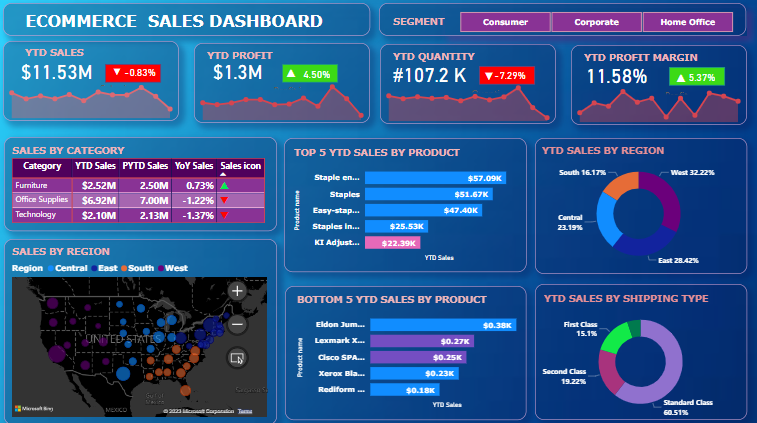

The page's visual inventory and layout, read from the dashboard file:
{"tool":"powerbi","page":{"name":"Page 1","canvas":[1280,720],"ordinal":0},"visuals":[{"type":"textbox","box":[10.2,0,615,55],"z":0},{"type":"textbox","box":[10.2,0,576.6,55.6],"z":1000},{"type":"textbox","box":[10.1,75.5,295.3,134.2],"z":2000},{"type":"card","fields":{"Values":["ecommerce_data.YTD Sales"]},"box":[0,103.9,200.5,43.9],"z":3000},{"type":"areaChart","fields":{"Category":["Calendar.Month"],"Y":["Sum(ecommerce_data.sales_per_order)"]},"box":[10.1,130.9,295.3,78.8],"z":4000},{"type":"shape","box":[181.5,114.1,93.7,30.7],"z":5000},{"type":"card","fields":{"Values":["ecommerce_data.YoY Sales"]},"box":[190.2,114.1,99.5,29.3],"z":6000},{"type":"card","fields":{"Values":["ecommerce_data.Sales icon"]},"box":[165.4,111.2,70.2,42.4],"z":7000},{"type":"textbox","box":[330.4,78.8,295.3,134.2],"z":8000},{"type":"card","fields":{"Values":["ecommerce_data.YTD Profit"]},"box":[304.4,103.9,200.5,43.9],"z":9000},{"type":"areaChart","fields":{"Category":["Calendar.Month"],"Y":["Sum(ecommerce_data.profit_per_order)"]},"box":[330.4,134.1,295.3,78.8],"z":10000},{"type":"shape","box":[478.5,114.1,93.7,30.7],"z":11000},{"type":"card","fields":{"Values":["ecommerce_data.YoY Profit"]},"box":[487.3,115.6,99.5,22],"z":12000},{"type":"card","fields":{"Values":["ecommerce_data.Profit icon"]},"box":[458,112.7,70.2,43.9],"z":13000},{"type":"textbox","box":[42.4,79,158,38],"z":14000},{"type":"textbox","box":[346.8,83.4,158,38],"z":15000},{"type":"textbox","box":[643.3,80,295.3,134.2],"z":16000},{"type":"areaChart","fields":{"Category":["Calendar.Month"],"Y":["Sum(ecommerce_data.order_quantity)"]},"box":[643.3,135.4,295.3,78.8],"z":17000},{"type":"shape","box":[807.8,117.1,93.7,30.7],"z":18000},{"type":"card","fields":{"Values":["ecommerce_data.YoY Quantity"]},"box":[810.7,117.1,99.5,22],"z":19000},{"type":"card","fields":{"Values":["ecommerce_data.Quantity icon"]},"box":[790.2,117.1,70.2,43.9],"z":20000},{"type":"textbox","box":[660,84.9,181.5,38],"z":21000},{"type":"card","fields":{"Values":["ecommerce_data.YTD Concatenated Qty"]},"box":[626.3,108.3,200.5,43.9],"z":22000},{"type":"textbox","box":[963.6,82.7,295.3,134.2],"z":23000},{"type":"areaChart","fields":{"Category":["Calendar.Month"],"Y":["ecommerce_data.Profit Margin"]},"box":[963.6,138,295.3,78.8],"z":24000},{"type":"shape","box":[1128,119.8,93.7,30.7],"z":25000},{"type":"card","fields":{"Values":["ecommerce_data.YoY Profit Margin"]},"box":[1132.7,121.5,99.5,22],"z":26000},{"type":"card","fields":{"Values":["ecommerce_data.Profit Margin icon"]},"box":[1112.2,120,70.2,43.9],"z":27000},{"type":"textbox","box":[980.5,87.8,250.2,38],"z":28000},{"type":"card","fields":{"Values":["ecommerce_data.YTD Profit Margin"]},"box":[939.5,111.2,200.5,43.9],"z":29000},{"type":"textbox","box":[11.7,237.1,458,158],"z":30000},{"type":"pivotTable","title":"SALES BY CATEGORY","fields":{"Rows":["ecommerce_data.category_name"],"Values":["ecommerce_data.YTD Sales","ecommerce_data.PYTD Sales","ecommerce_data.YoY Sales","ecommerce_data.Sales icon"]},"box":[20.5,248.8,507.8,146.3],"z":31000},{"type":"actionButton","box":[0,0,100,40],"z":32000},{"type":"textbox","box":[11.7,408.3,458,311.7],"z":32001},{"type":"map","title":"SALES BY REGION","fields":{"Y":["us_state_long_lat_codes.latitude"],"X":["us_state_long_lat_codes.longitude"],"Size":["ecommerce_data.YTD Sales"],"Series":["ecommerce_data.customer_region"]},"box":[20.5,417.1,449.3,294.1],"z":32002}]}

Visuals, with their boxes in screenshot pixels (x1, y1, x2, y2), scaled from the page's 1280x720 canvas onto the 757x423 screenshot:
textbox: <region>6, 0, 370, 32</region>
textbox: <region>6, 0, 347, 33</region>
textbox: <region>6, 44, 181, 123</region>
card - ecommerce_data.YTD Sales: <region>0, 61, 119, 87</region>
areaChart - Calendar.Month x Sum(ecommerce_data.sales_per_order): <region>6, 77, 181, 123</region>
shape: <region>107, 67, 163, 85</region>
card - ecommerce_data.YoY Sales: <region>112, 67, 171, 84</region>
card - ecommerce_data.Sales icon: <region>98, 65, 139, 90</region>
textbox: <region>195, 46, 370, 125</region>
card - ecommerce_data.YTD Profit: <region>180, 61, 299, 87</region>
areaChart - Calendar.Month x Sum(ecommerce_data.profit_per_order): <region>195, 79, 370, 125</region>
shape: <region>283, 67, 338, 85</region>
card - ecommerce_data.YoY Profit: <region>288, 68, 347, 81</region>
card - ecommerce_data.Profit icon: <region>271, 66, 312, 92</region>
textbox: <region>25, 46, 119, 69</region>
textbox: <region>205, 49, 299, 71</region>
textbox: <region>380, 47, 555, 126</region>
areaChart - Calendar.Month x Sum(ecommerce_data.order_quantity): <region>380, 80, 555, 126</region>
shape: <region>478, 69, 533, 87</region>
card - ecommerce_data.YoY Quantity: <region>479, 69, 538, 82</region>
card - ecommerce_data.Quantity icon: <region>467, 69, 509, 95</region>
textbox: <region>390, 50, 498, 72</region>
card - ecommerce_data.YTD Concatenated Qty: <region>370, 64, 489, 89</region>
textbox: <region>570, 49, 745, 127</region>
areaChart - Calendar.Month x ecommerce_data.Profit Margin: <region>570, 81, 745, 127</region>
shape: <region>667, 70, 723, 88</region>
card - ecommerce_data.YoY Profit Margin: <region>670, 71, 729, 84</region>
card - ecommerce_data.Profit Margin icon: <region>658, 70, 699, 96</region>
textbox: <region>580, 52, 728, 74</region>
card - ecommerce_data.YTD Profit Margin: <region>556, 65, 674, 91</region>
textbox: <region>7, 139, 278, 232</region>
"SALES BY CATEGORY" pivotTable: <region>12, 146, 312, 232</region>
actionButton: <region>0, 0, 59, 24</region>
textbox: <region>7, 240, 278, 422</region>
"SALES BY REGION" map: <region>12, 245, 278, 418</region>
